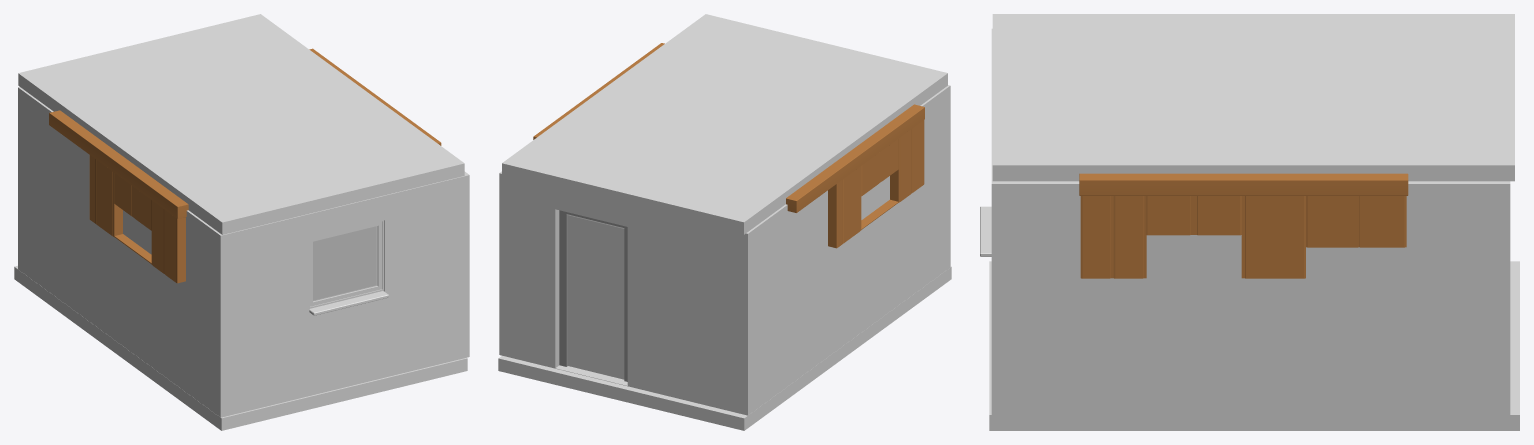
Rendered from FloorPlan12_Backup.fbx.
The picture shows the model from 3 angles, left to right: view 1: azimuth 30°, elevation 25°; view 2: azimuth 150°, elevation 25°; view 3: azimuth 270°, elevation 25°; orthographic projection. The views are drawn at different scales.
Parts seen in each view (by area): view 1: Room.045, Room.043, Room.044, Room.041, Cube.589, Cube.596, Cube.593; view 2: Room.045, Room.043, Room.042, Room.044, Cube.589, Cube.596, Room.041, Cube.593; view 3: Room.045, Room.043, Cube.560, Room.044, Cube.593, Room.041.
Part boxes in pixels (bbox=[...]): Room.045: bbox=[18, 87, 469, 417]; Room.043: bbox=[18, 14, 464, 234]; Room.044: bbox=[14, 265, 467, 430]; Room.041: bbox=[309, 220, 388, 315]; Cube.589: bbox=[89, 155, 185, 283]; Cube.596: bbox=[49, 110, 188, 218]; Cube.593: bbox=[309, 48, 441, 145]; Room.045: bbox=[499, 85, 950, 415]; Room.043: bbox=[502, 14, 947, 234]; Room.042: bbox=[567, 215, 624, 379]; Room.044: bbox=[498, 266, 951, 430]; Cube.589: bbox=[828, 120, 924, 248]; Cube.596: bbox=[786, 104, 924, 212]; Room.041: bbox=[559, 210, 627, 381]; Cube.593: bbox=[533, 43, 664, 139]; Room.045: bbox=[991, 28, 1510, 416]; Room.043: bbox=[992, 14, 1514, 181]; Cube.560: bbox=[1080, 196, 1406, 278]; Room.044: bbox=[989, 261, 1519, 430]; Cube.593: bbox=[1079, 173, 1408, 195]; Room.041: bbox=[980, 206, 991, 256].
Size of the model in its own units: 365 by 273 by 505.
